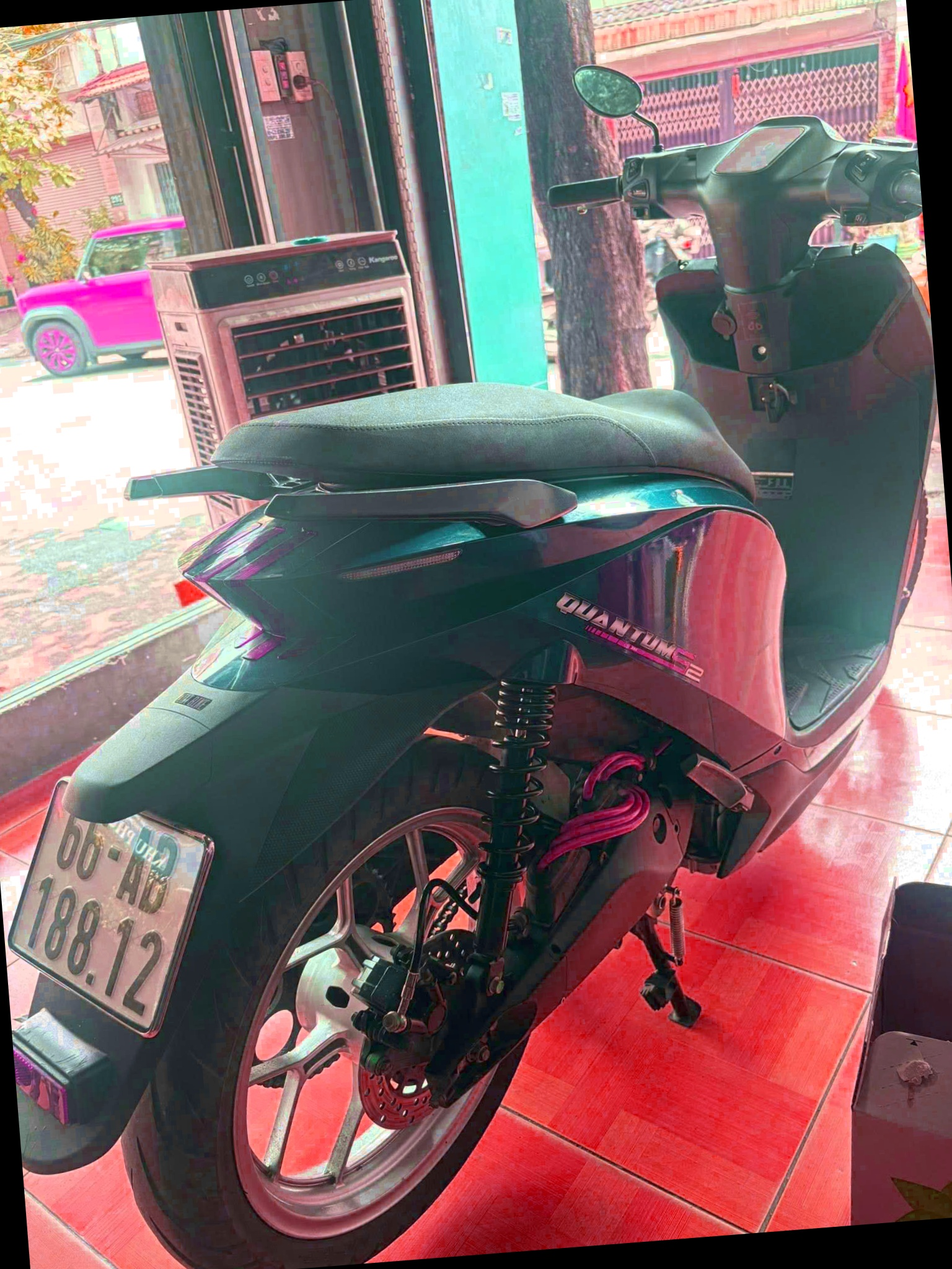Bien-so: (15, 735, 228, 1012)
